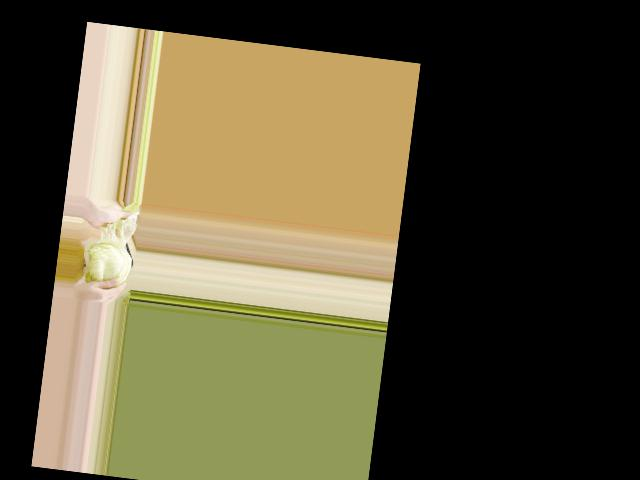lettuce: (76, 225, 137, 292)
